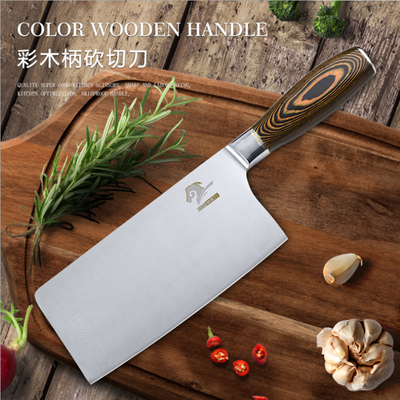knief: (54, 44, 371, 383)
